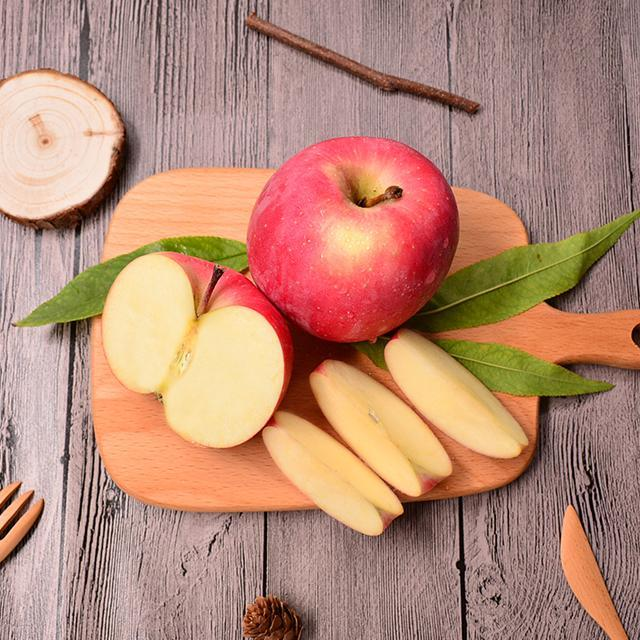apple: (244, 133, 459, 345)
